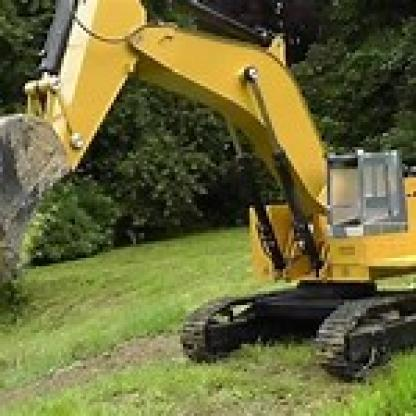excavator: (0, 0, 413, 374)
